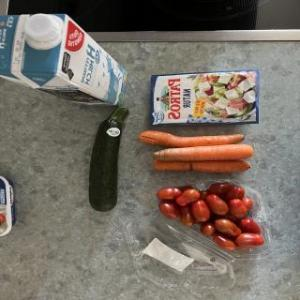carrot: (122, 127, 260, 147), (144, 145, 260, 163), (132, 159, 250, 173)
tomato: (156, 180, 262, 250)
zucchini: (78, 105, 132, 213)
